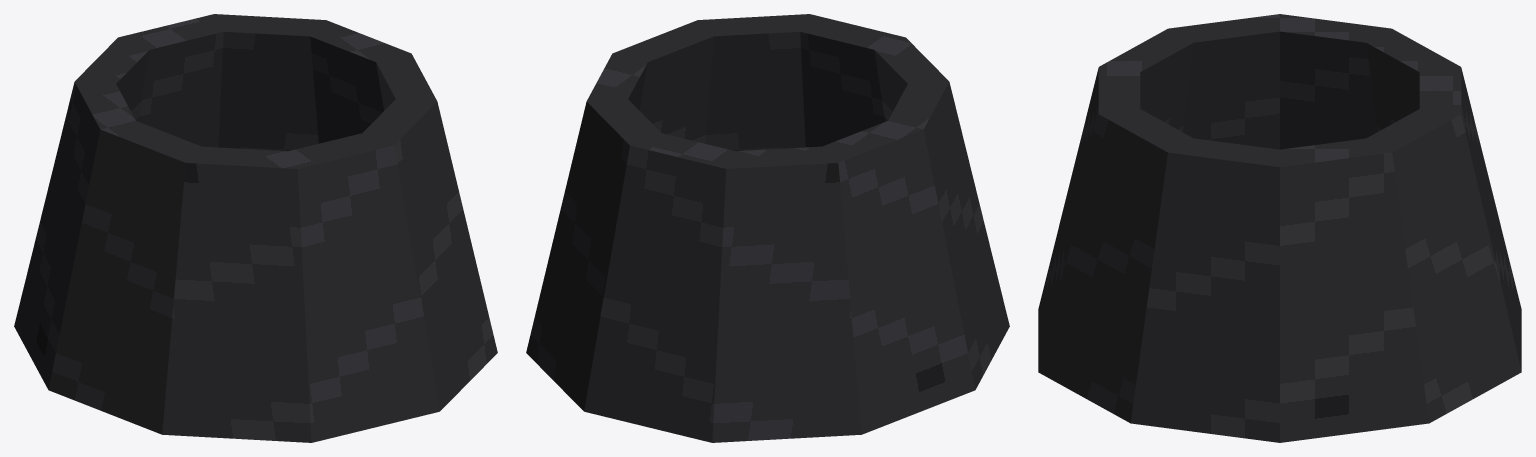
File: escamas_hierro.glb
The picture shows the model from 3 angles, left to right: view 1: azimuth 30°, elevation 25°; view 2: azimuth 150°, elevation 25°; view 3: azimuth 270°, elevation 25°; orthographic projection.
Parts seen in each view (by area): view 1: gola; view 2: gola; view 3: gola.
Part boxes in pixels (x1=…): gola: x1=14, y1=14, x2=497, y2=442; gola: x1=526, y1=14, x2=1009, y2=442; gola: x1=1038, y1=14, x2=1521, y2=442.
Bounding box in the file's own units: 0.35 × 0.2 × 0.35.
1 material, 1 textured.
